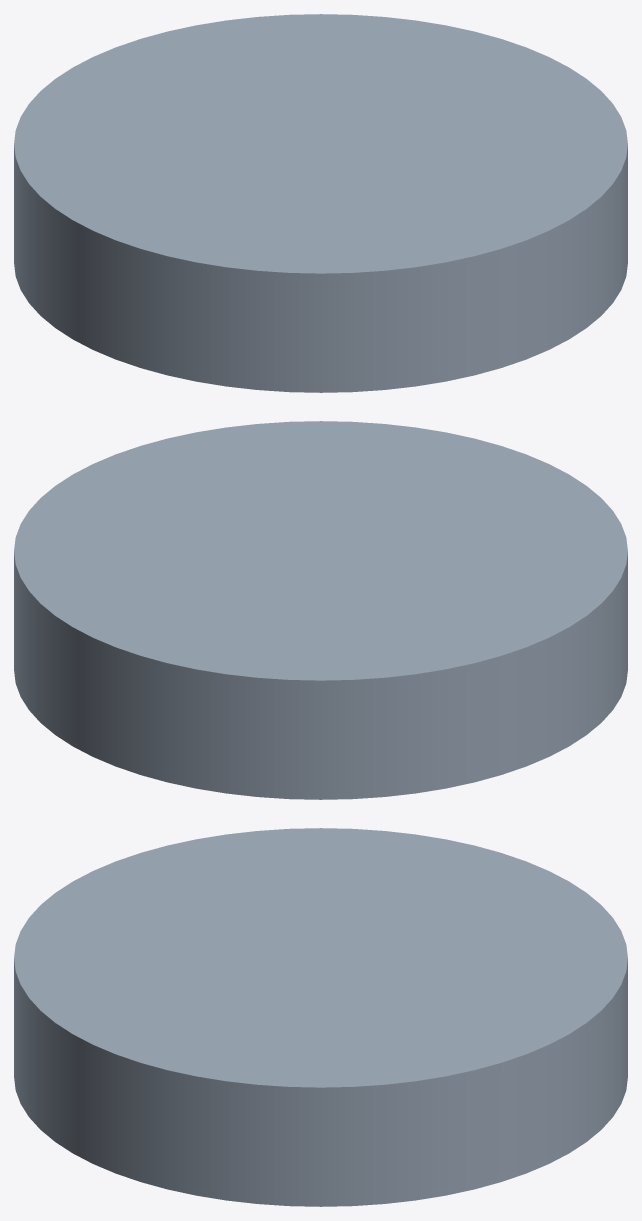
The model's file is fuelrod_lid.obj.
The picture shows the model from 3 angles, top to bottom: view 1: azimuth 30°, elevation 25°; view 2: azimuth 150°, elevation 25°; view 3: azimuth 270°, elevation 25°; orthographic projection.
Parts seen in each view (by area): view 1: 1; view 2: 1; view 3: 1.
Boxes of the visible parts, <box> form: 1: <box>14,14,627,392</box>; 1: <box>14,421,627,799</box>; 1: <box>14,828,627,1206</box>.
Bounding box in the file's own units: 14 × 3 × 14.
